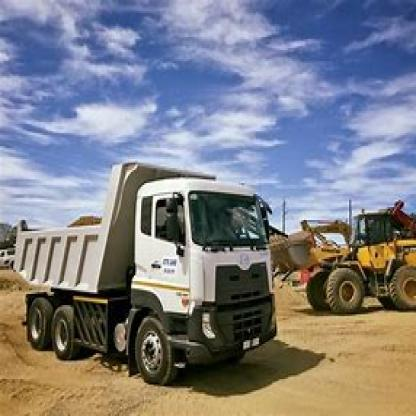dump_truck: (7, 153, 292, 392)
